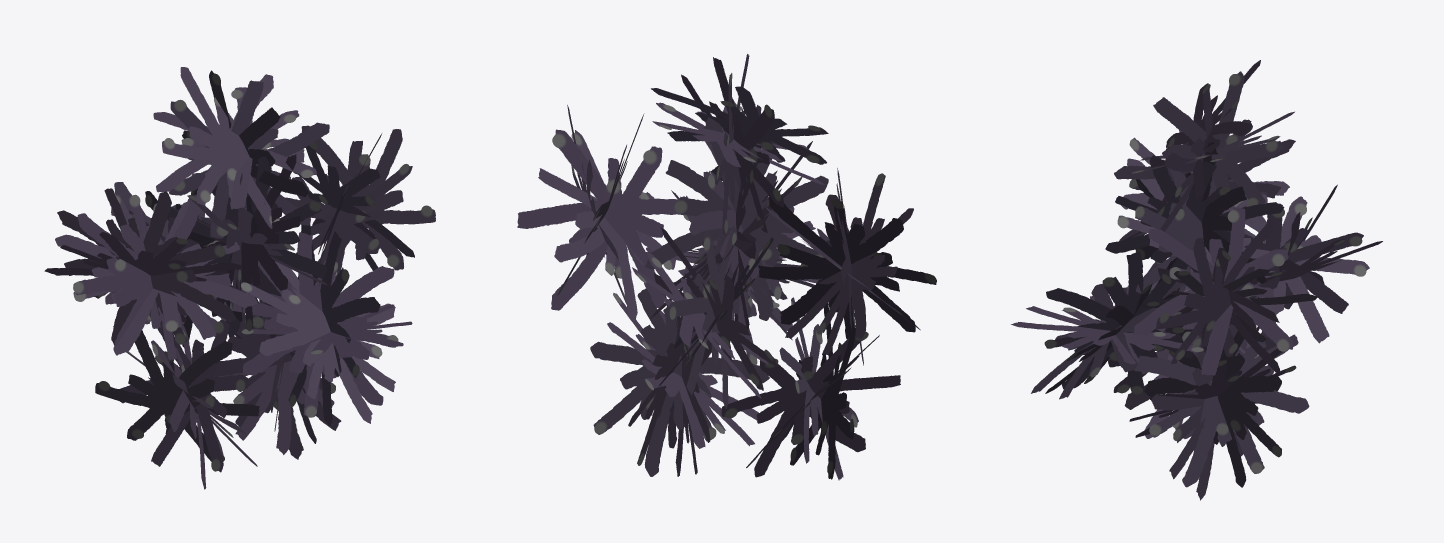
File: ST Spiky Plant Polycule Tall.fbx
The picture shows the model from 3 angles, left to right: view 1: azimuth 30°, elevation 25°; view 2: azimuth 150°, elevation 25°; view 3: azimuth 270°, elevation 25°; orthographic projection. The views are drawn at different scales.
Parts seen in each view (by area): view 1: Spiky Plant Polycule Tall; view 2: Spiky Plant Polycule Tall; view 3: Spiky Plant Polycule Tall.
Boxes of the visible parts, x1=… form: Spiky Plant Polycule Tall: x1=44, y1=67, x2=435, y2=489; Spiky Plant Polycule Tall: x1=517, y1=54, x2=936, y2=480; Spiky Plant Polycule Tall: x1=1011, y1=60, x2=1382, y2=500.
Bounding box in the file's own units: 450 × 551 × 465.
